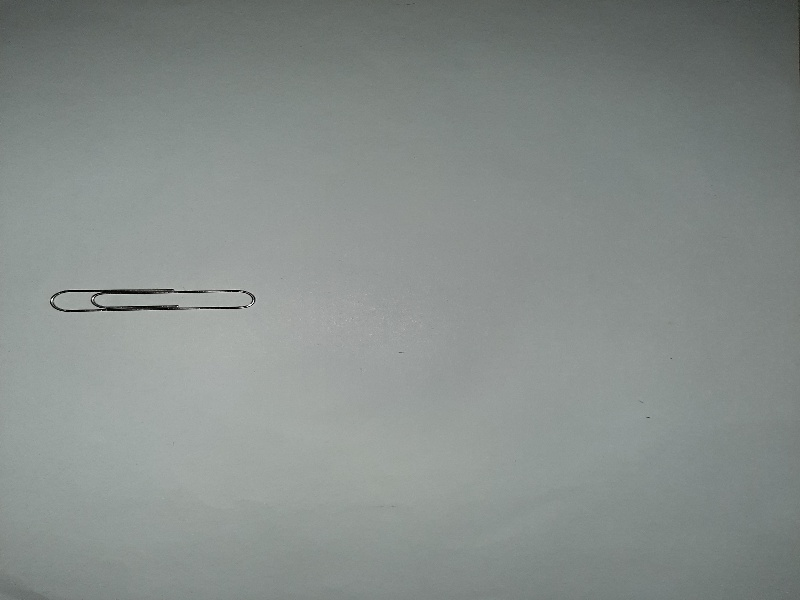Big Jumpclip: (47, 282, 260, 316)
